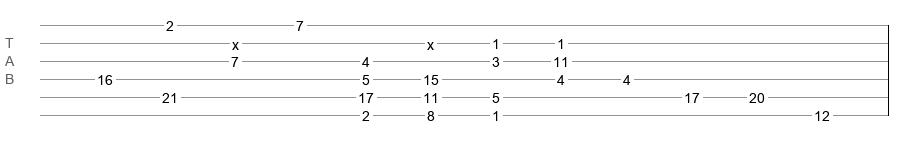1: (492, 36, 500, 46), (492, 108, 500, 118), (557, 36, 565, 46)
11: (423, 90, 439, 100), (553, 54, 569, 64)
12: (814, 108, 830, 118)
15: (423, 72, 439, 82)
16: (97, 72, 113, 82)
17: (358, 90, 374, 100), (684, 90, 700, 100)
2: (166, 18, 174, 28), (362, 108, 370, 118)
20: (749, 90, 765, 100)
21: (162, 90, 178, 100)
3: (492, 54, 500, 64)
4: (362, 54, 370, 64), (557, 72, 565, 82), (623, 72, 631, 82)
5: (362, 72, 370, 82), (492, 90, 500, 100)
7: (231, 54, 239, 64), (296, 18, 304, 28)
8: (427, 108, 435, 118)
x: (232, 37, 239, 45), (427, 37, 434, 45)
